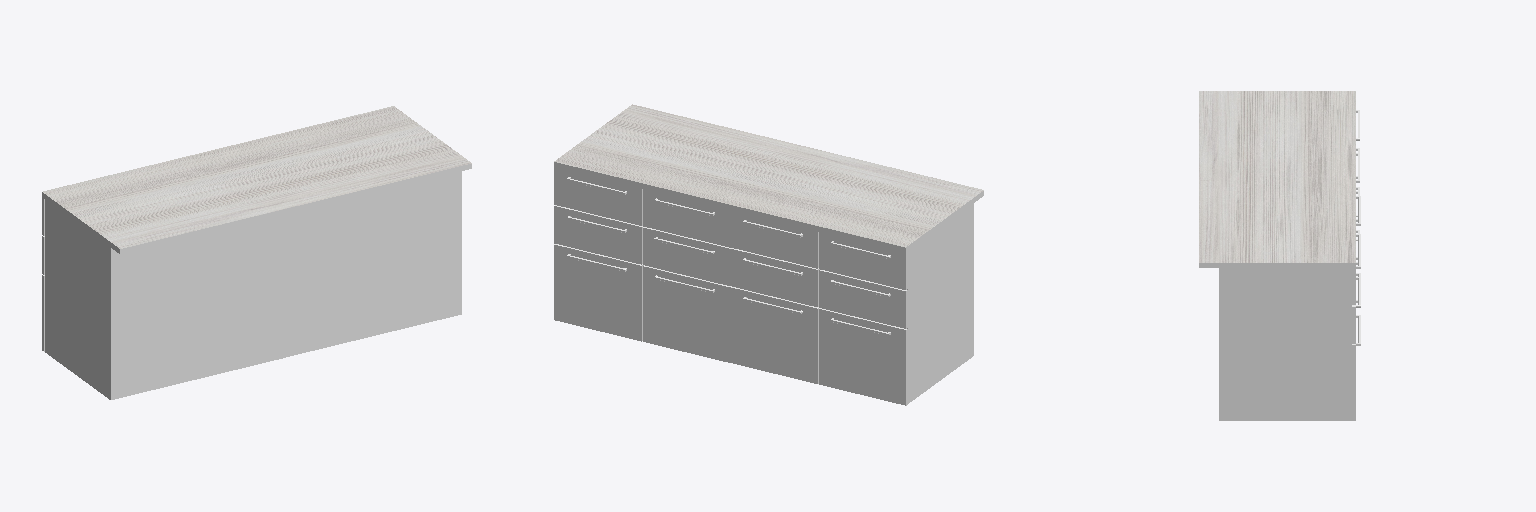
3 views of the same model, side by side, from view 1: azimuth 30°, elevation 25°; view 2: azimuth 150°, elevation 25°; view 3: azimuth 270°, elevation 25° (orthographic).
Visible parts, largest first — view 1: isle; view 2: isle; view 3: isle.
Boxes of the visible parts, x1=… form: isle: x1=42, y1=106, x2=471, y2=399; isle: x1=554, y1=104, x2=983, y2=405; isle: x1=1199, y1=91, x2=1360, y2=420.
Size of the model in its own units: 3.01 by 1.29 by 1.19.
Materials: 8 (1 with a texture image).